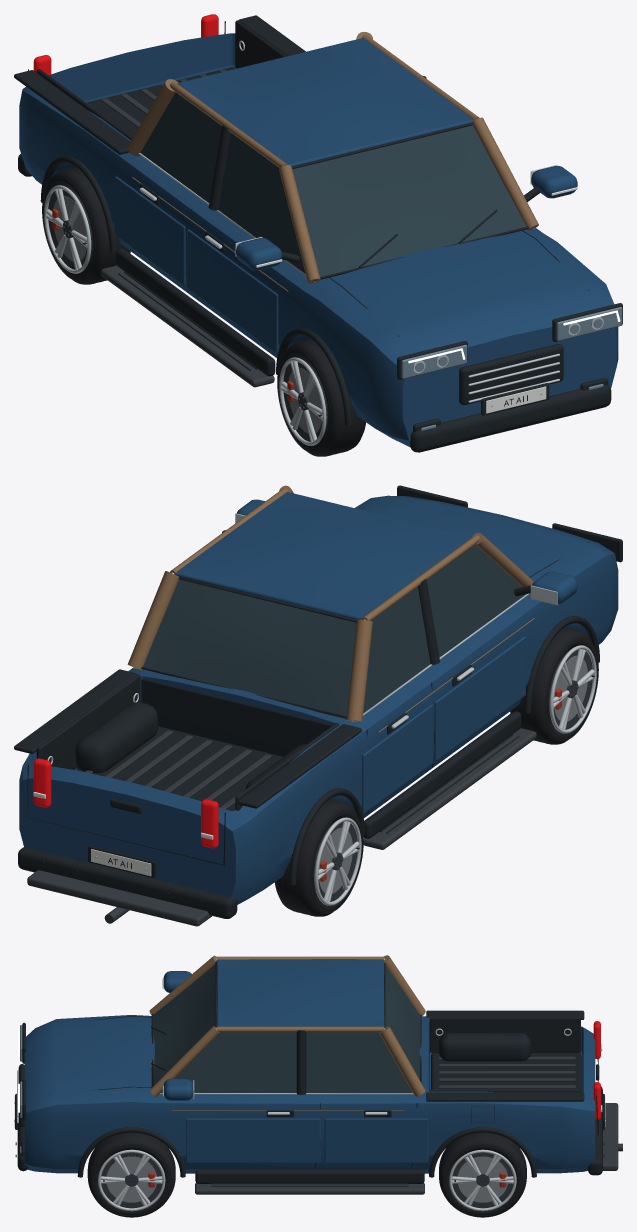
Rendered from pickup.glb.
3 views of the same model, one above another, from view 1: azimuth 30°, elevation 25°; view 2: azimuth 150°, elevation 25°; view 3: azimuth 270°, elevation 25° (orthographic). The views are drawn at different scales.
Visible parts, largest first — view 1: Pickup continuous sculpted body.001, Pickup curved laminated windscreen.001, Pickup gently crowned roof.001, Pickup fitted side glazing.002, Pickup pressed door skin.006, Pickup front lower valance.001, Pickup pressed door skin.004, Pickup rocker sill.002, Pickup pneumatic tyre.007, Pickup front radiator grille.001, Pickup aluminium running board.002, Pickup pneumatic tyre.005 (+22 smaller); view 2: Pickup continuous sculpted body.001, Pickup gently crowned roof.001, Pickup curved rear screen.001, Pickup fitted side glazing.002, Pickup bed front bulkhead.001, Pickup ribbed bed liner.001, Pickup pressed door skin.006, Pickup rear bumper.001, Pickup pressed door skin.004, Pickup wheel tub.002, Pickup rocker sill.002, Pickup pneumatic tyre.005 (+25 smaller); view 3: Pickup continuous sculpted body.001, Pickup fitted side glazing.003, Pickup gently crowned roof.001, Pickup pressed door skin.007, Pickup pressed door skin.005, Pickup curved laminated windscreen.001, Pickup inner bed wall.002, Pickup ribbed bed liner.001, Pickup rocker sill.003, Pickup pneumatic tyre.004, Pickup pneumatic tyre.006, Pickup wheel tub.003 (+31 smaller).
Part boxes in pixels (box(x1,y1,x2,y2)): Pickup continuous sculpted body.001: box(19, 33, 618, 447); Pickup curved laminated windscreen.001: box(292, 125, 526, 276); Pickup gently crowned roof.001: box(177, 38, 473, 166); Pickup fitted side glazing.002: box(140, 92, 305, 273); Pickup pressed door skin.006: box(187, 229, 278, 353); Pickup front lower valance.001: box(410, 385, 611, 452); Pickup pressed door skin.004: box(115, 176, 185, 285); Pickup rocker sill.002: box(116, 248, 275, 376); Pickup pneumatic tyre.007: box(278, 339, 365, 456); Pickup front radiator grille.001: box(459, 344, 563, 404); Pickup aluminium running board.002: box(100, 265, 274, 387); Pickup pneumatic tyre.005: box(42, 167, 130, 284); Pickup continuous sculpted body.001: box(19, 495, 618, 904); Pickup gently crowned roof.001: box(176, 492, 472, 619); Pickup curved rear screen.001: box(143, 579, 356, 716); Pickup fitted side glazing.002: box(363, 544, 525, 712); Pickup bed front bulkhead.001: box(141, 679, 332, 756); Pickup ribbed bed liner.001: box(75, 726, 283, 810); Pickup pressed door skin.006: box(434, 636, 525, 760); Pickup rear bumper.001: box(18, 847, 237, 918); Pickup pressed door skin.004: box(362, 704, 433, 813); Pickup wheel tub.002: box(75, 702, 158, 773); Pickup rocker sill.002: box(363, 711, 521, 838); Pickup pneumatic tyre.005: box(274, 799, 362, 916); Pickup continuous sculpted body.001: box(24, 1015, 595, 1173); Pickup fitted side glazing.003: box(160, 1032, 412, 1093); Pickup gently crowned roof.001: box(216, 959, 384, 1026); Pickup pressed door skin.007: box(186, 1118, 320, 1162); Pickup pressed door skin.005: box(324, 1118, 428, 1162); Pickup curved laminated windscreen.001: box(153, 964, 215, 1085); Pickup inner bed wall.002: box(429, 1017, 580, 1052); Pickup ribbed bed liner.001: box(431, 1052, 581, 1092); Pickup rocker sill.003: box(195, 1169, 424, 1183); Pickup pneumatic tyre.004: box(439, 1132, 526, 1217); Pickup pneumatic tyre.006: box(88, 1132, 175, 1217); Pickup wheel tub.003: box(439, 1032, 531, 1061).
Size of the model in its own units: 2.67 by 1.9 by 5.74.
